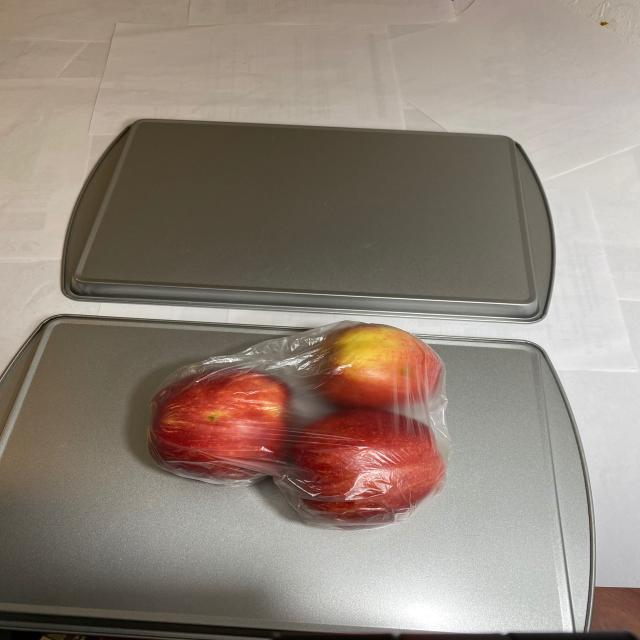apple: (132, 322, 447, 531)
